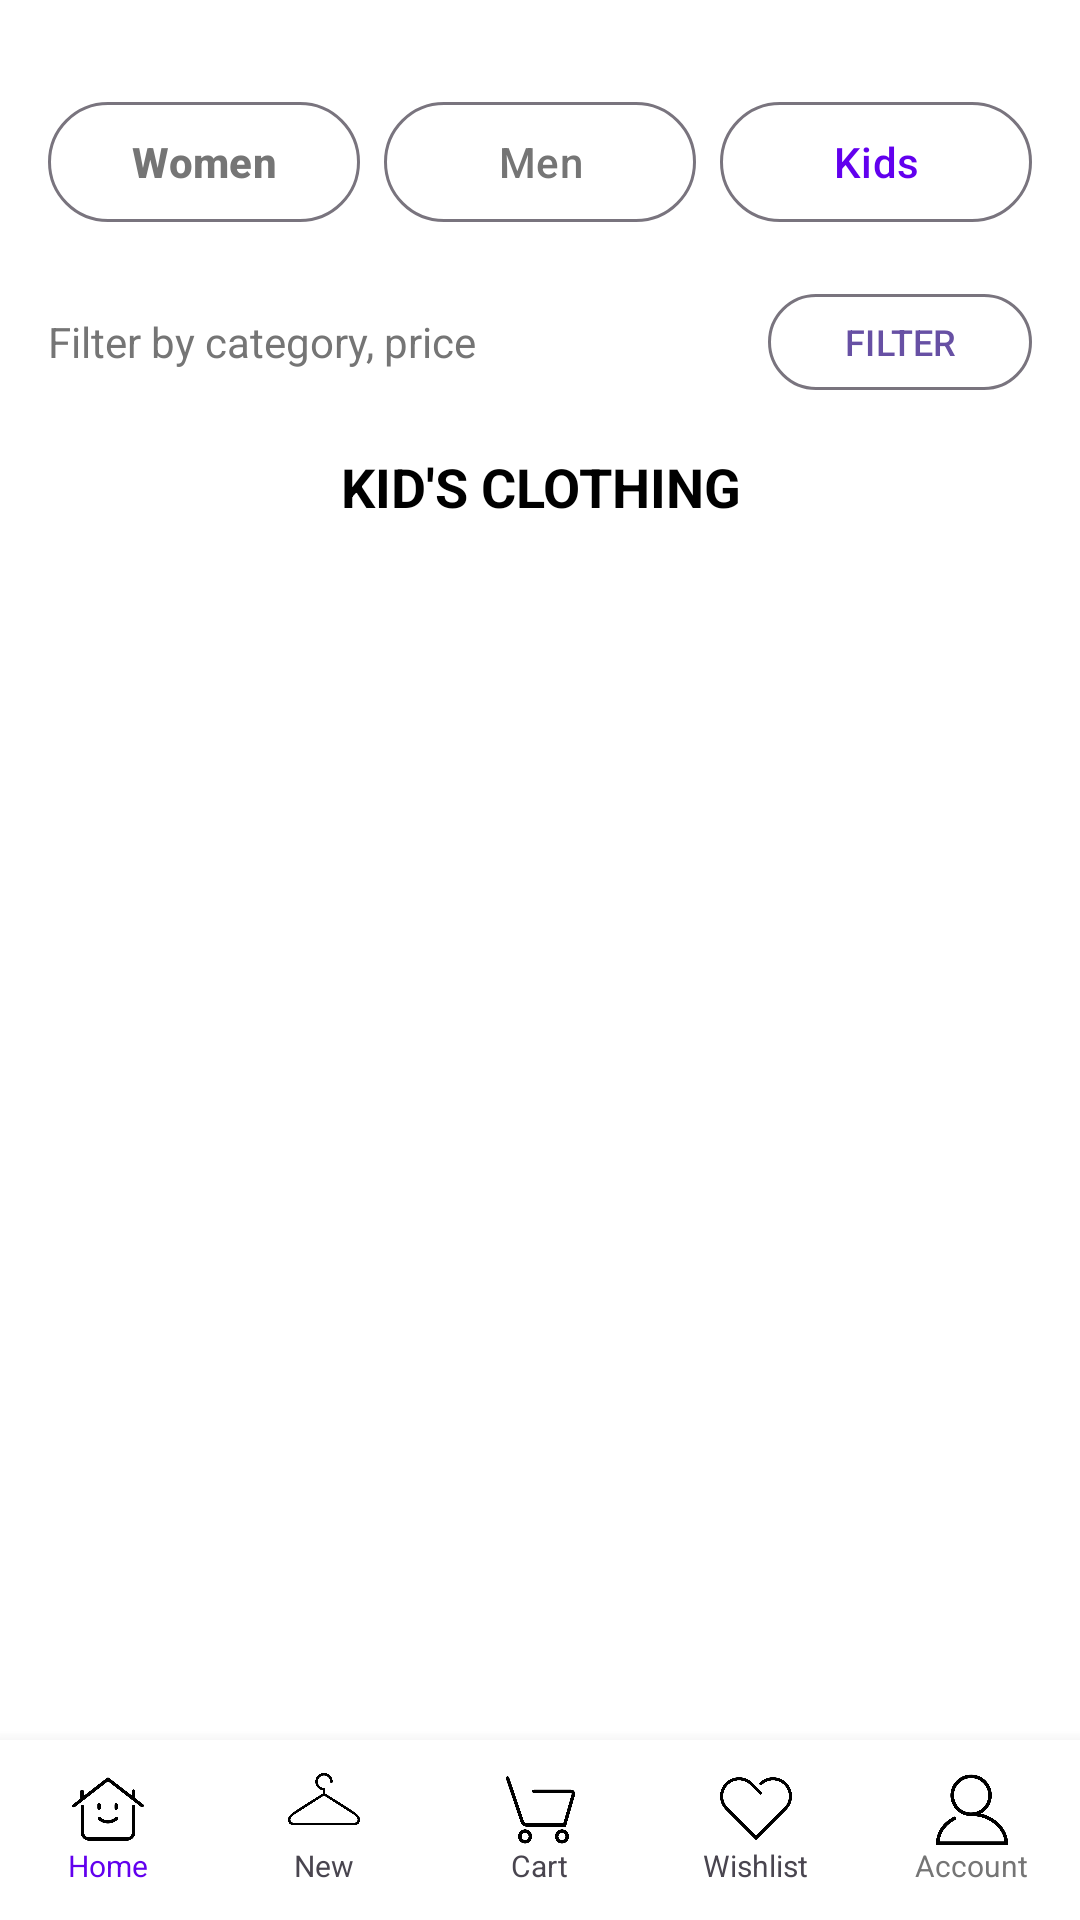

Icon bounding boxes for this 1080w x 1920h phone screenshot, format (x1, y1, x2, y2):
hanger: (288, 1773, 360, 1825)
